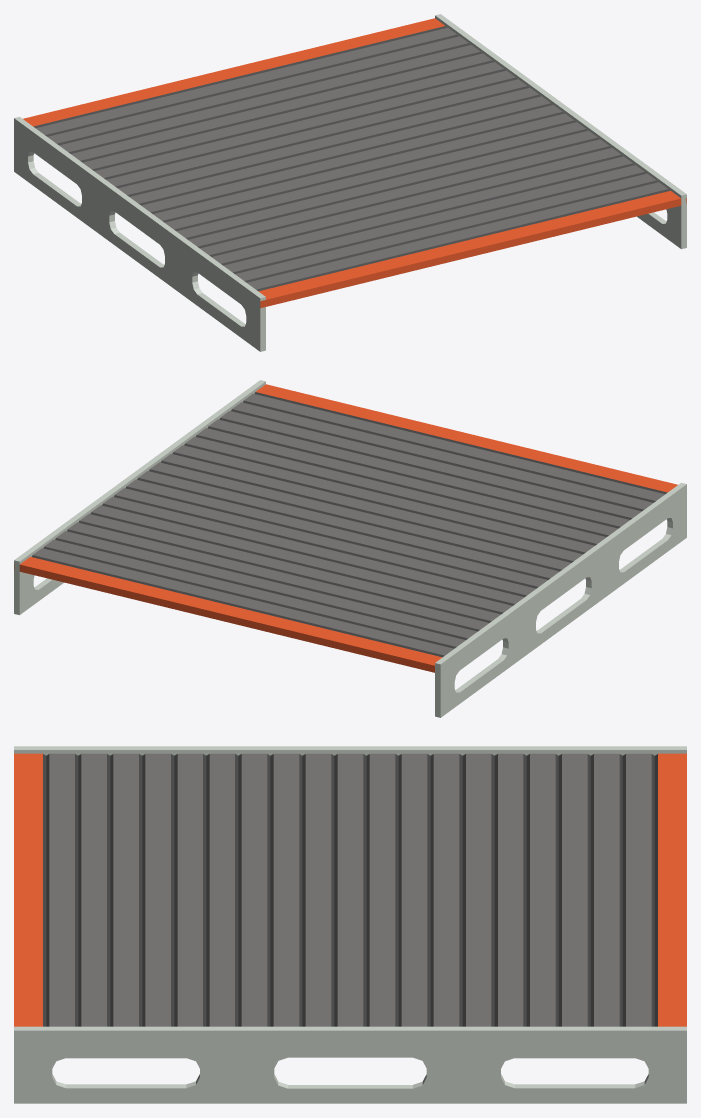
The model's file is Dock_Straight_01.glb.
3 views of the same model, one above another, from view 1: azimuth 30°, elevation 25°; view 2: azimuth 150°, elevation 25°; view 3: azimuth 270°, elevation 25° (orthographic). The views are drawn at different scales.
Visible parts, largest first — view 1: Dock_Straight_01; view 2: Dock_Straight_01; view 3: Dock_Straight_01.
Boxes of the visible parts, x1,y1,x2,y2 form: Dock_Straight_01: [14, 14, 686, 351]; Dock_Straight_01: [14, 380, 686, 717]; Dock_Straight_01: [14, 746, 686, 1103].
Size of what is drawn, in the model's own units: 3 by 0.36 by 3.
1 material, 1 textured.
